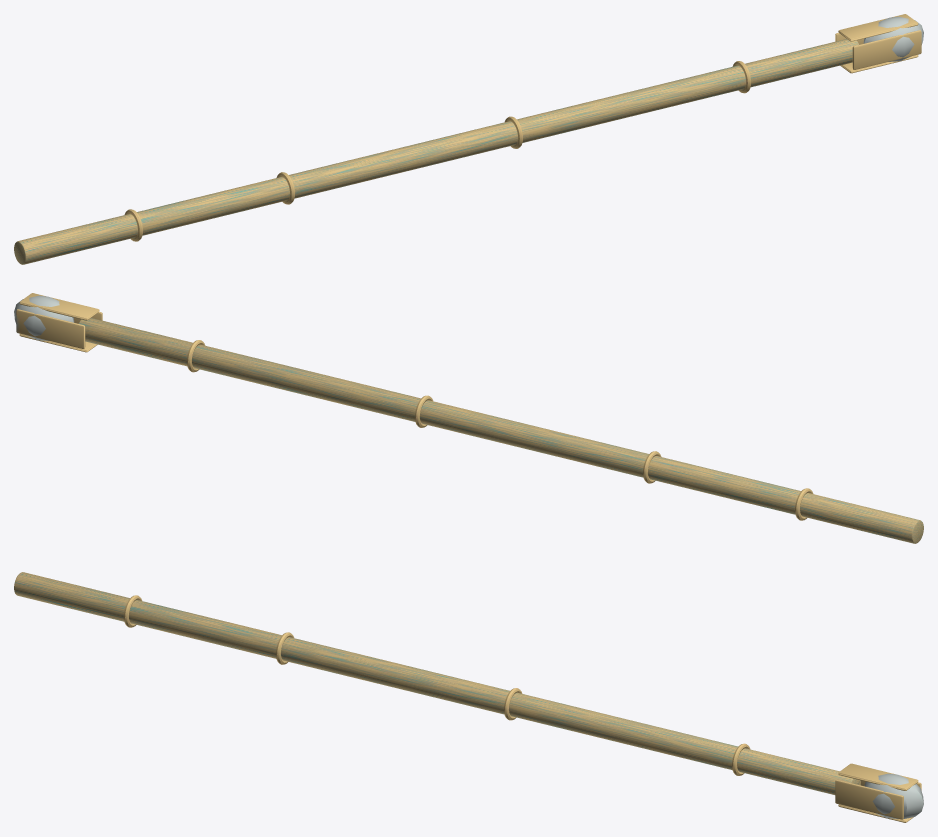
File: tidestaff.glb
3 renders of one model, top to bottom at view 1: azimuth 30°, elevation 25°; view 2: azimuth 150°, elevation 25°; view 3: azimuth 330°, elevation 25°, orthographic.
Visible parts, largest first — view 1: staff, crystal; view 2: staff, crystal; view 3: staff, crystal.
Part boxes in pixels (x1,y1,x2,y2): staff: [14, 14, 921, 264]; crystal: [863, 16, 923, 61]; staff: [16, 293, 923, 543]; crystal: [14, 295, 74, 340]; staff: [14, 572, 921, 822]; crystal: [864, 773, 923, 818].
Bounding box in the file's own units: 1.19 × 0.052 × 0.052.
Materials: 1 (1 with a texture image).
